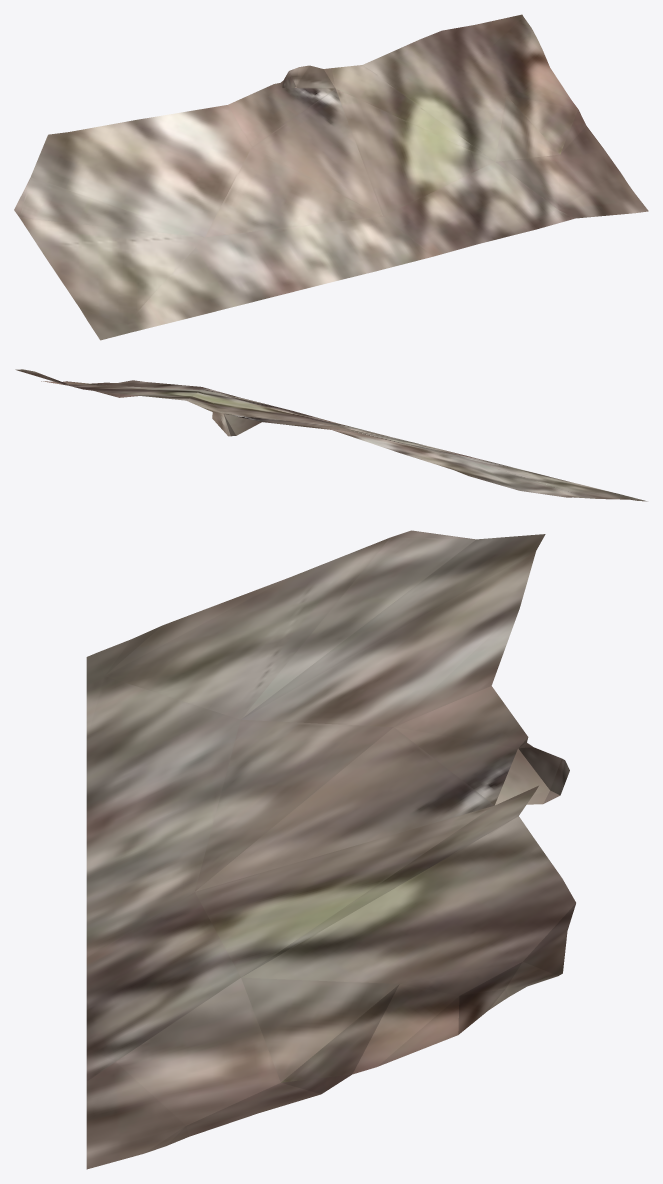
3 views of the same model, one above another, from view 1: azimuth 30°, elevation 25°; view 2: azimuth 150°, elevation 25°; view 3: azimuth 270°, elevation 25° (orthographic). The views are drawn at different scales.
Bounding box in the file's own units: 1.67 × 0.304 × 0.6882.
1 material, 1 textured.
